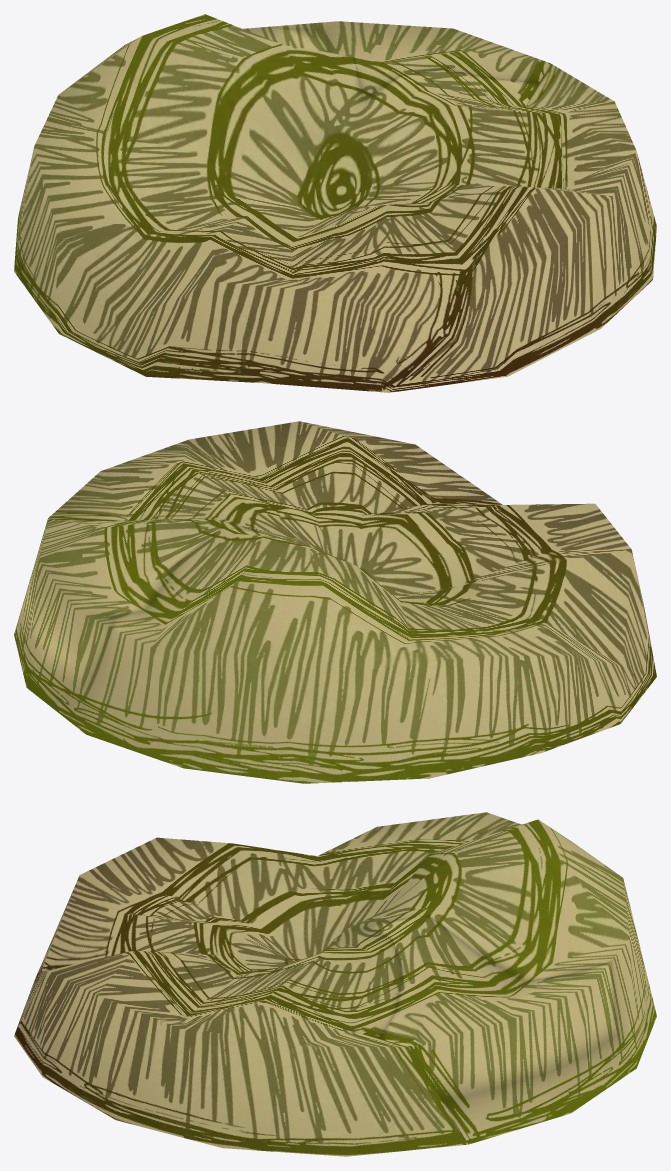
File: tent3_2050.glb
3 renders of one model, top to bottom at view 1: azimuth 30°, elevation 25°; view 2: azimuth 150°, elevation 25°; view 3: azimuth 270°, elevation 25°, orthographic.
Parts seen in each view (by area): view 1: Tente3_2050.002; view 2: Tente3_2050.002; view 3: Tente3_2050.002.
Part boxes in pixels (left/top/right/bottom): Tente3_2050.002: left=14, top=14, right=656, bottom=392; Tente3_2050.002: left=14, top=421, right=656, bottom=783; Tente3_2050.002: left=14, top=812, right=656, bottom=1156.
Bounding box in the file's own units: 7.7 × 2.29 × 7.7.
Materials: 1 (1 with a texture image).
